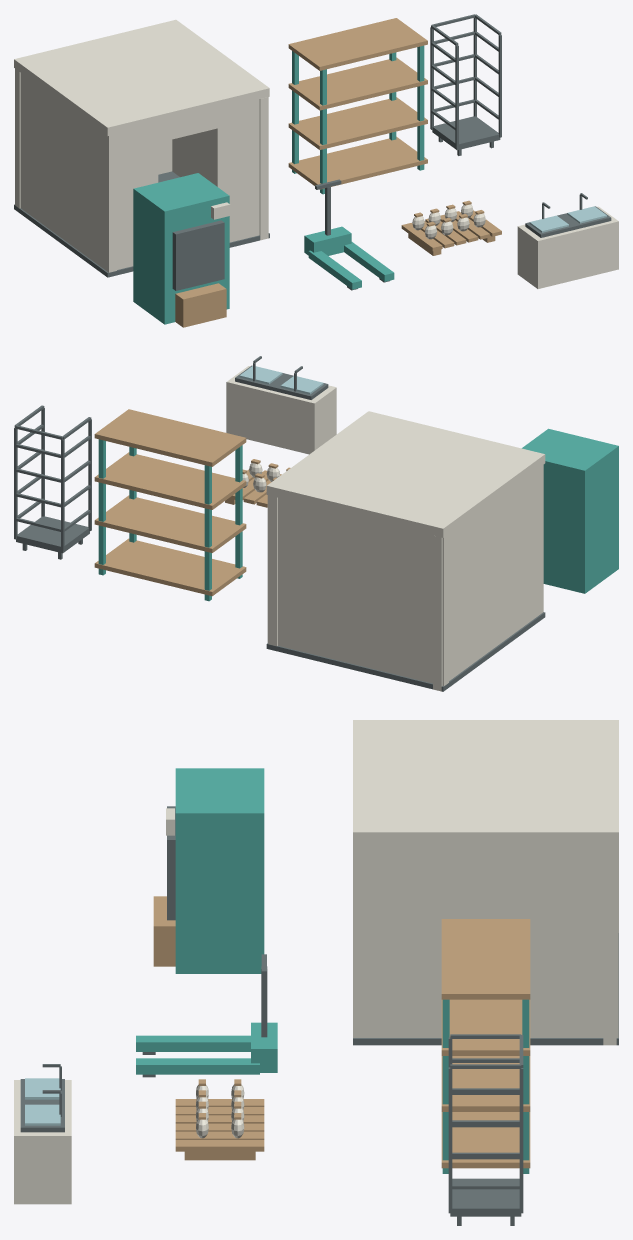
The model's file is supermarket-operations-cold-chain-stockroom-13c8fe56__26958.glb.
The picture shows the model from 3 angles, top to bottom: view 1: azimuth 30°, elevation 25°; view 2: azimuth 150°, elevation 25°; view 3: azimuth 270°, elevation 25°; orthographic projection. The views are drawn at different scales.
Visible parts, largest first — view 1: 000-walk-in-cold-room/0, 001-stockroom-shelf/1, 005-cardboard-baler/2, 006-wash-station/0, 002-roll-cage/0, 005-cardboard-baler/1, 003-pallet-jack/1, 001-stockroom-shelf/0, 005-cardboard-baler/3, 004-pallet-display-base/0, 000-walk-in-cold-room/1, 006-wash-station/2 (+2 smaller); view 2: 000-walk-in-cold-room/0, 001-stockroom-shelf/1, 005-cardboard-baler/2, 006-wash-station/0, 002-roll-cage/0, 001-stockroom-shelf/0, 000-walk-in-cold-room/1, 006-wash-station/1, 006-wash-station/2, 004-pallet-display-base/0; view 3: 000-walk-in-cold-room/0, 005-cardboard-baler/2, 001-stockroom-shelf/1, 002-roll-cage/0, 003-pallet-jack/1, 006-wash-station/0, 004-pallet-display-base/0, 001-stockroom-shelf/0, 006-wash-station/2, 000-walk-in-cold-room/1, 005-cardboard-baler/3, 006-wash-station/1 (+1 smaller).
Boxes of the visible parts, box(x1,y1,x2,y2) form: 000-walk-in-cold-room/0: box(14, 19, 269, 272); 001-stockroom-shelf/1: box(288, 18, 427, 189); 005-cardboard-baler/2: box(133, 173, 229, 324); 006-wash-station/0: box(517, 206, 618, 288); 002-roll-cage/0: box(430, 14, 501, 155); 005-cardboard-baler/1: box(172, 220, 224, 290); 003-pallet-jack/1: box(304, 226, 394, 289); 001-stockroom-shelf/0: box(292, 45, 424, 194); 005-cardboard-baler/3: box(175, 283, 226, 327); 004-pallet-display-base/0: box(401, 210, 501, 255); 000-walk-in-cold-room/1: box(14, 171, 269, 277); 006-wash-station/2: box(529, 206, 606, 232); 000-walk-in-cold-room/0: box(266, 411, 545, 691); 001-stockroom-shelf/1: box(94, 409, 246, 596); 005-cardboard-baler/2: box(522, 428, 618, 593); 006-wash-station/0: box(226, 366, 336, 454); 002-roll-cage/0: box(14, 405, 91, 559); 001-stockroom-shelf/0: box(98, 439, 242, 601); 000-walk-in-cold-room/1: box(266, 612, 545, 691); 006-wash-station/1: box(235, 356, 328, 399); 006-wash-station/2: box(239, 366, 323, 394); 004-pallet-display-base/0: box(225, 469, 281, 507); 000-walk-in-cold-room/0: box(353, 720, 618, 1045); 005-cardboard-baler/2: box(175, 768, 264, 973); 001-stockroom-shelf/1: box(441, 919, 530, 1168); 002-roll-cage/0: box(448, 1034, 523, 1225); 003-pallet-jack/1: box(136, 1022, 277, 1074); 006-wash-station/0: box(14, 1080, 71, 1204); 004-pallet-display-base/0: box(175, 1099, 264, 1160); 001-stockroom-shelf/0: box(442, 999, 529, 1173); 006-wash-station/2: box(25, 1078, 60, 1125); 000-walk-in-cold-room/1: box(353, 933, 618, 1045); 005-cardboard-baler/3: box(153, 896, 175, 966); 006-wash-station/1: box(20, 1064, 64, 1132).
Bounding box in the file's own units: 8.02 × 2.65 × 6.83.
